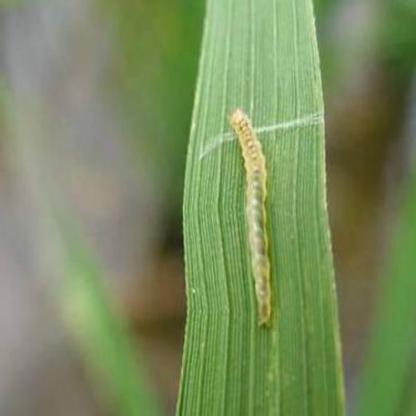leaf-folder: (223, 98, 282, 332)
